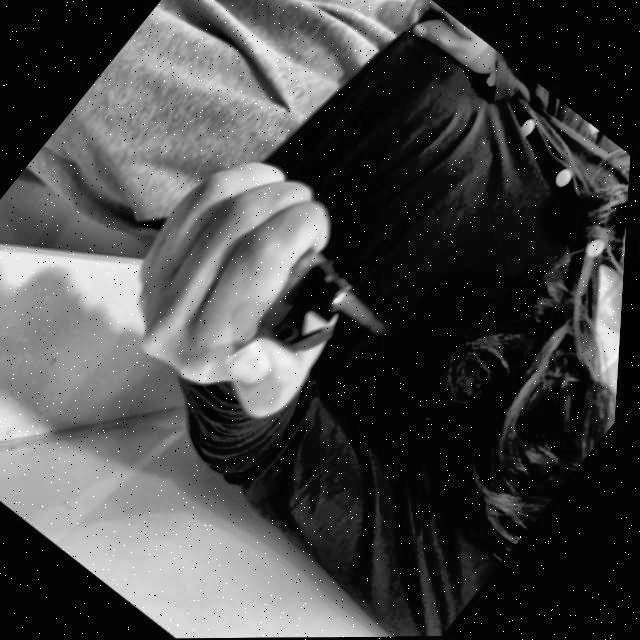Fire: (330, 287, 399, 344)
